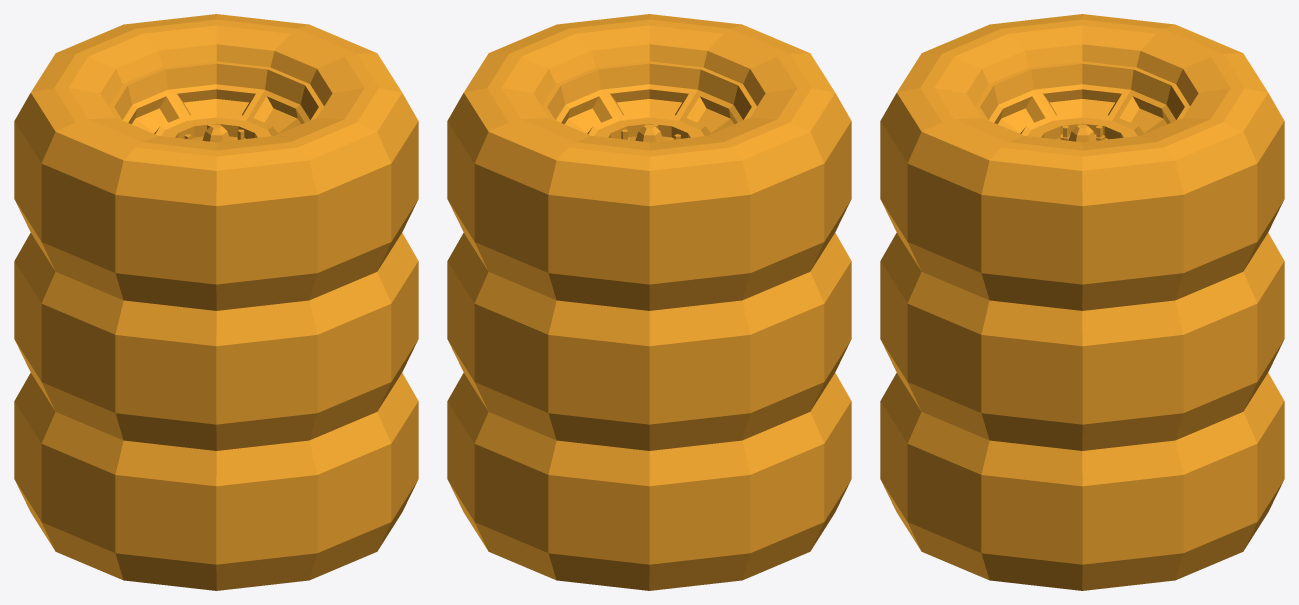
The model's file is SM_Wheel_Stack_Nascar.fbx.
3 views of the same model, side by side, from view 1: azimuth 30°, elevation 25°; view 2: azimuth 150°, elevation 25°; view 3: azimuth 270°, elevation 25° (orthographic).
Parts seen in each view (by area): view 1: SM_Wheel_Stack_Nascar; view 2: SM_Wheel_Stack_Nascar; view 3: SM_Wheel_Stack_Nascar.
Boxes of the visible parts, x1,y1,x2,y2 form: SM_Wheel_Stack_Nascar: (14, 14, 418, 590); SM_Wheel_Stack_Nascar: (447, 14, 851, 590); SM_Wheel_Stack_Nascar: (880, 14, 1284, 590).
Size of the model in its own units: 0.8447 by 0.9793 by 0.8447.
